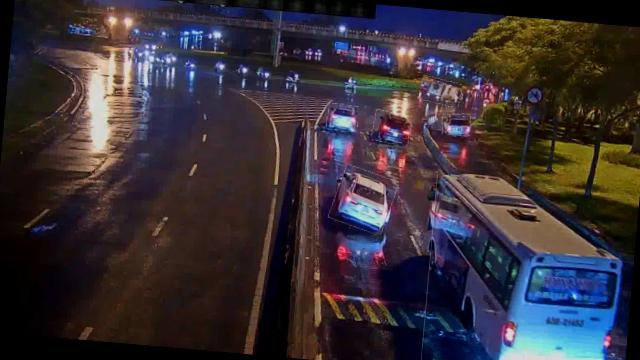Bus: (421, 174, 626, 360)
Car: (331, 166, 396, 234), (372, 110, 412, 146), (326, 102, 359, 132), (441, 112, 472, 136)
Truck: (418, 76, 462, 108)
